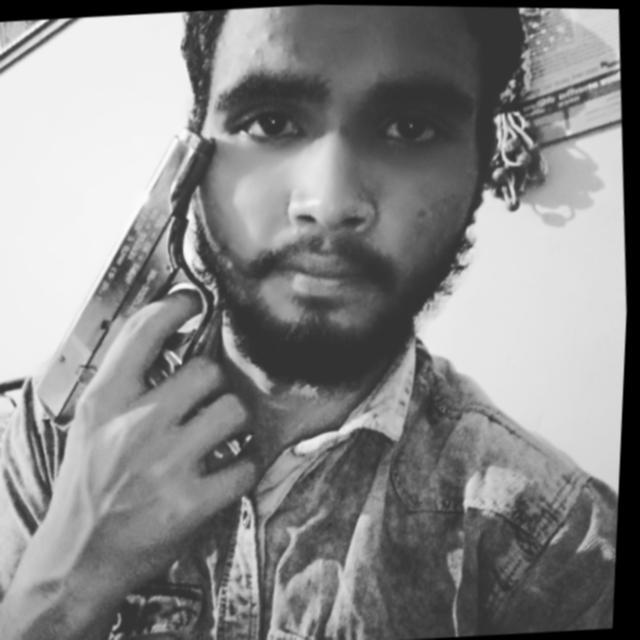weapon: (13, 118, 276, 494)
